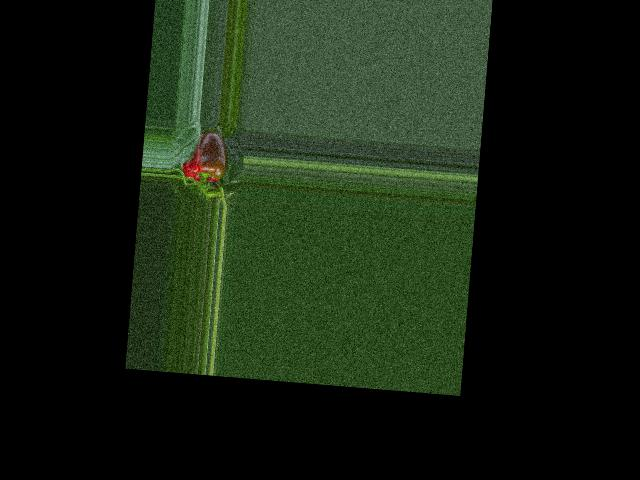bell_pepper: (178, 125, 235, 190)
